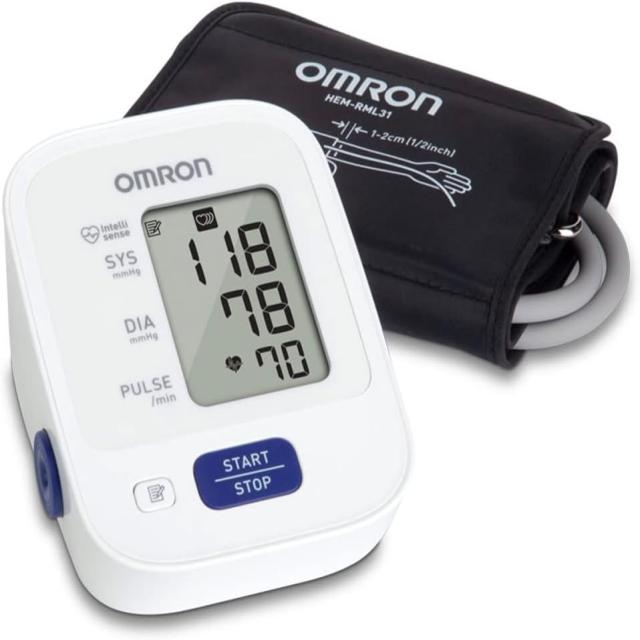dia: (211, 274, 302, 349)
pul: (251, 333, 315, 387)
ssd: (135, 170, 332, 416)
sys: (180, 214, 282, 290)
